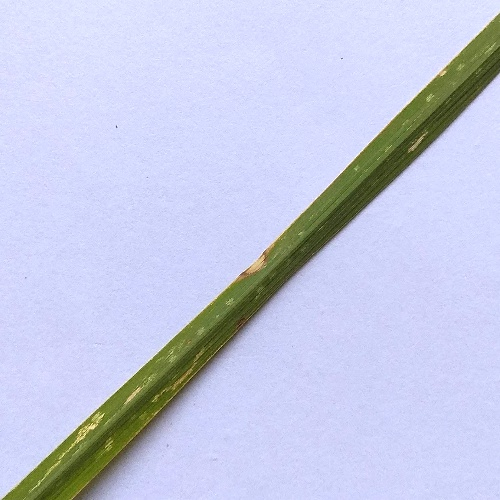Busuk Leher: (62, 404, 116, 445), (227, 240, 283, 279), (402, 122, 430, 155), (121, 383, 149, 413), (428, 60, 459, 86)
